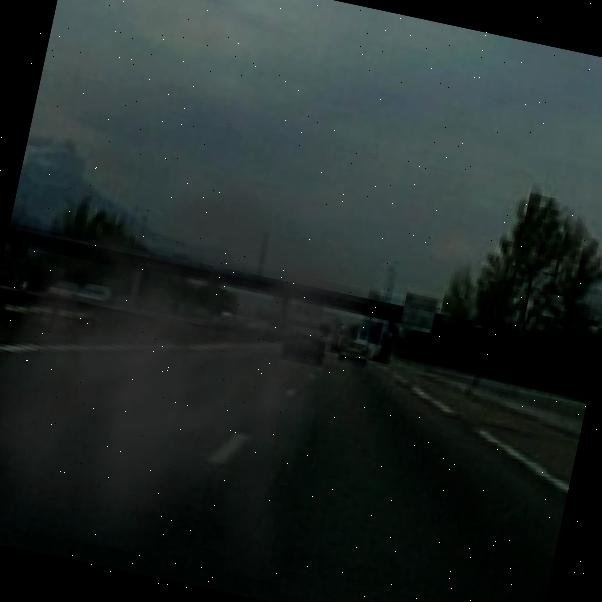smoke: (0, 123, 392, 590)
